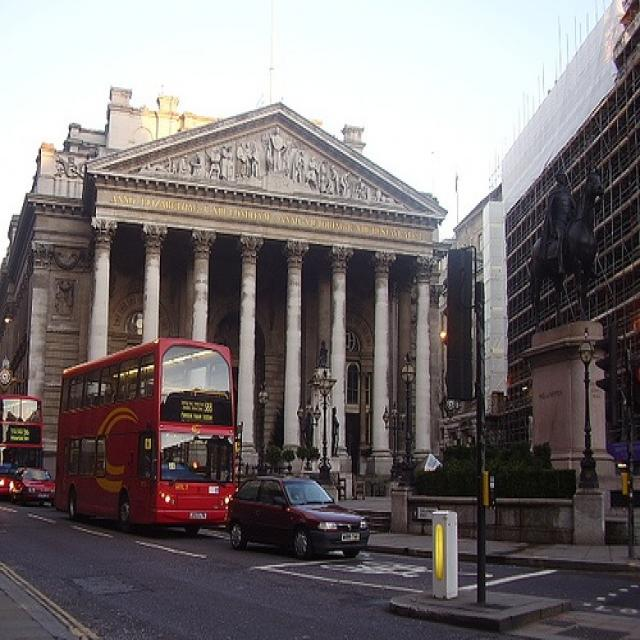bus: (54, 334, 235, 532), (0, 392, 42, 495)
car: (224, 473, 369, 565), (8, 470, 56, 510)
pole: (469, 275, 492, 602)
